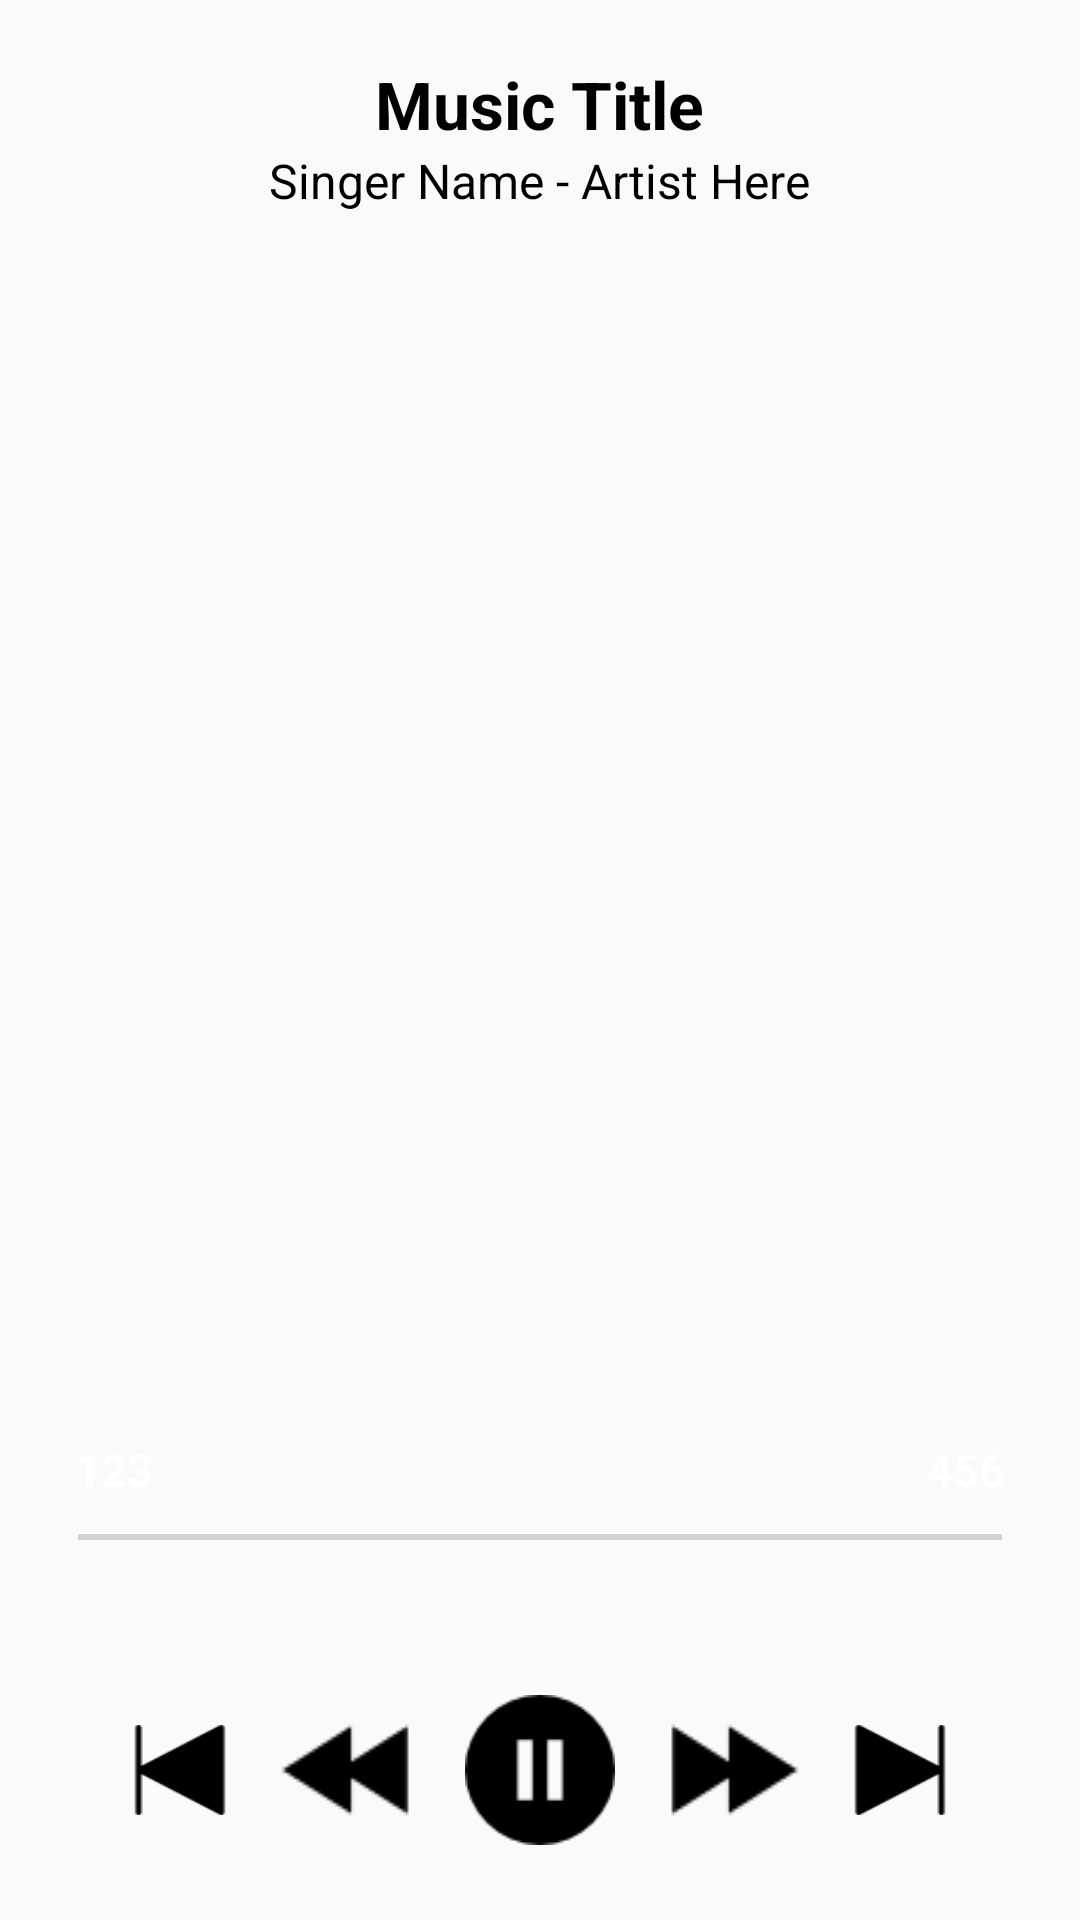

Named icons in this screenshot (1080 x 1920) and their centers, (x,y):
back: (180,1770)
forward: (734,1770)
next: (900,1770)
pauseround: (540,1770)
rewind: (345,1770)
